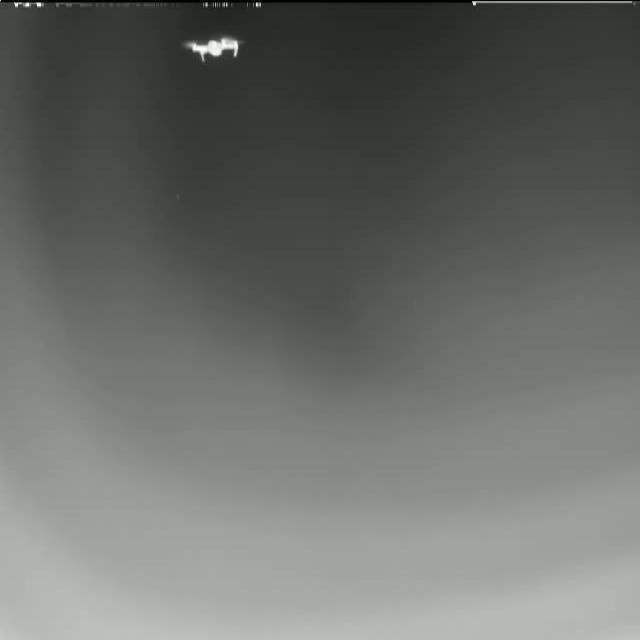DRONE: (181, 32, 244, 66)
